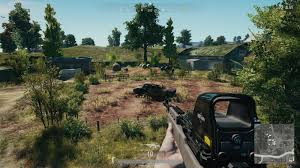Gun: (163, 100, 261, 166)
